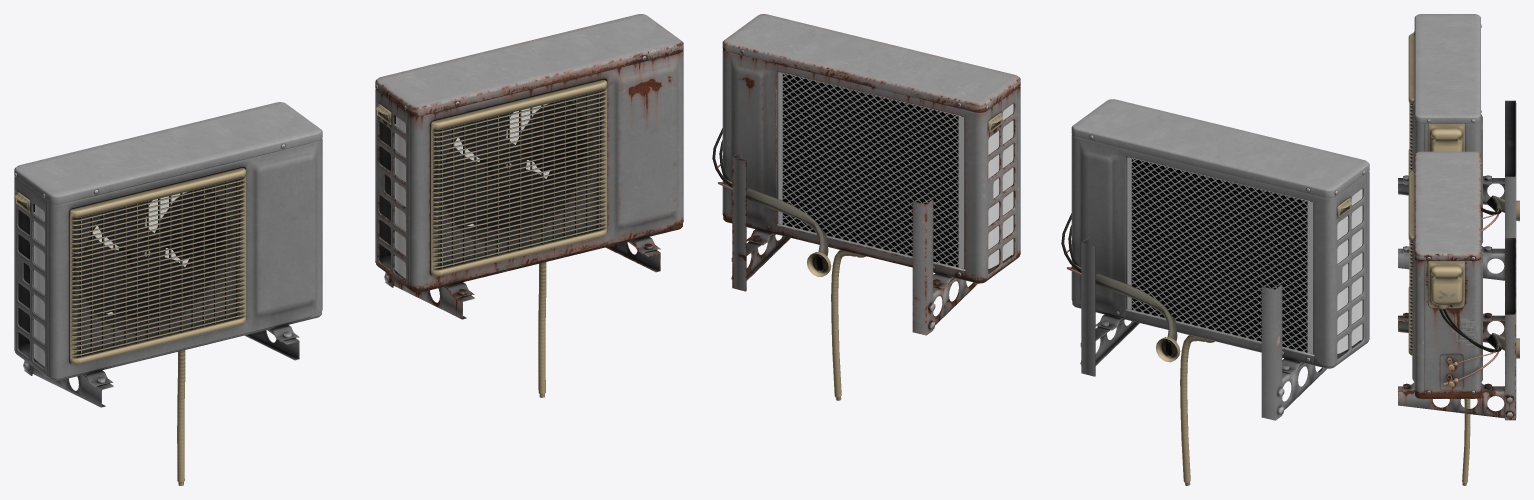
File: exterior_aircon_unit.gltf
The picture shows the model from 3 angles, left to right: view 1: azimuth 30°, elevation 25°; view 2: azimuth 150°, elevation 25°; view 3: azimuth 270°, elevation 25°; orthographic projection. The views are drawn at different scales.
Parts seen in each view (by area): view 1: exterior_aircon_unit_rusted, exterior_aircon_unit; view 2: exterior_aircon_unit, exterior_aircon_unit_rusted; view 3: exterior_aircon_unit_rusted, exterior_aircon_unit.
Boxes of the visible parts, bbox=[...] form: exterior_aircon_unit_rusted: bbox=[375, 14, 683, 397]; exterior_aircon_unit: bbox=[14, 102, 322, 485]; exterior_aircon_unit: bbox=[1061, 99, 1369, 485]; exterior_aircon_unit_rusted: bbox=[712, 14, 1020, 400]; exterior_aircon_unit_rusted: bbox=[1398, 151, 1519, 485]; exterior_aircon_unit: bbox=[1398, 14, 1519, 280].
Size of the model in its own units: 1.8 by 0.9279 by 0.3742.
4 materials, 4 textured.
